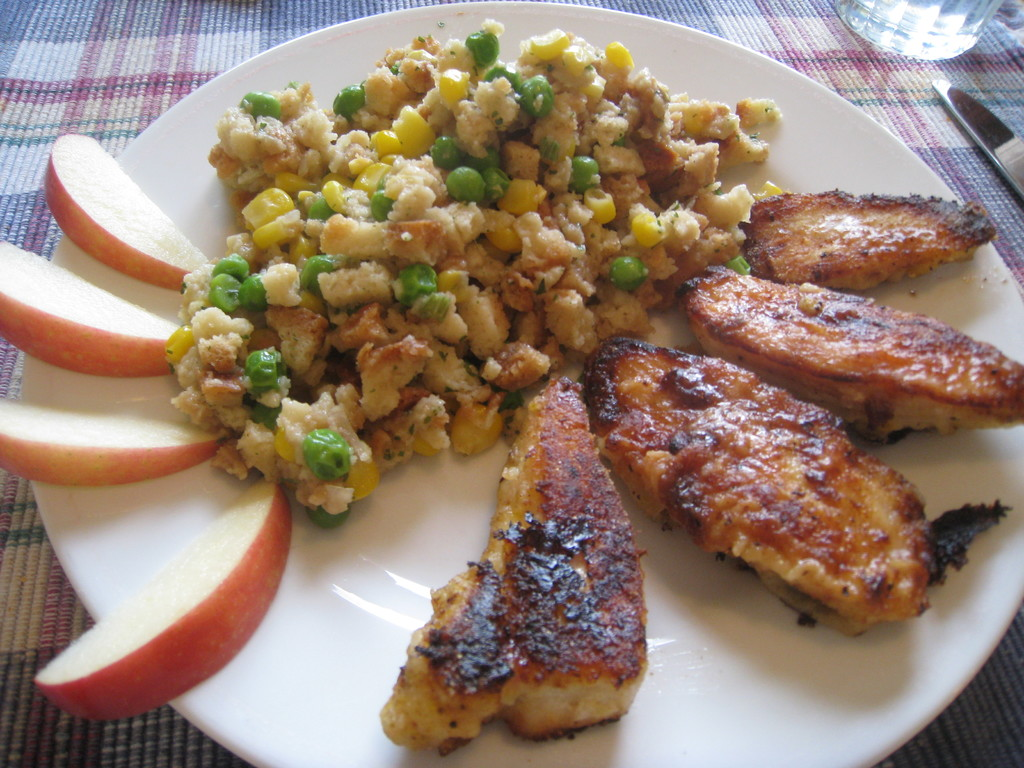Apple: (49, 474, 282, 736), (41, 129, 216, 289), (0, 240, 185, 384), (0, 389, 217, 487)
